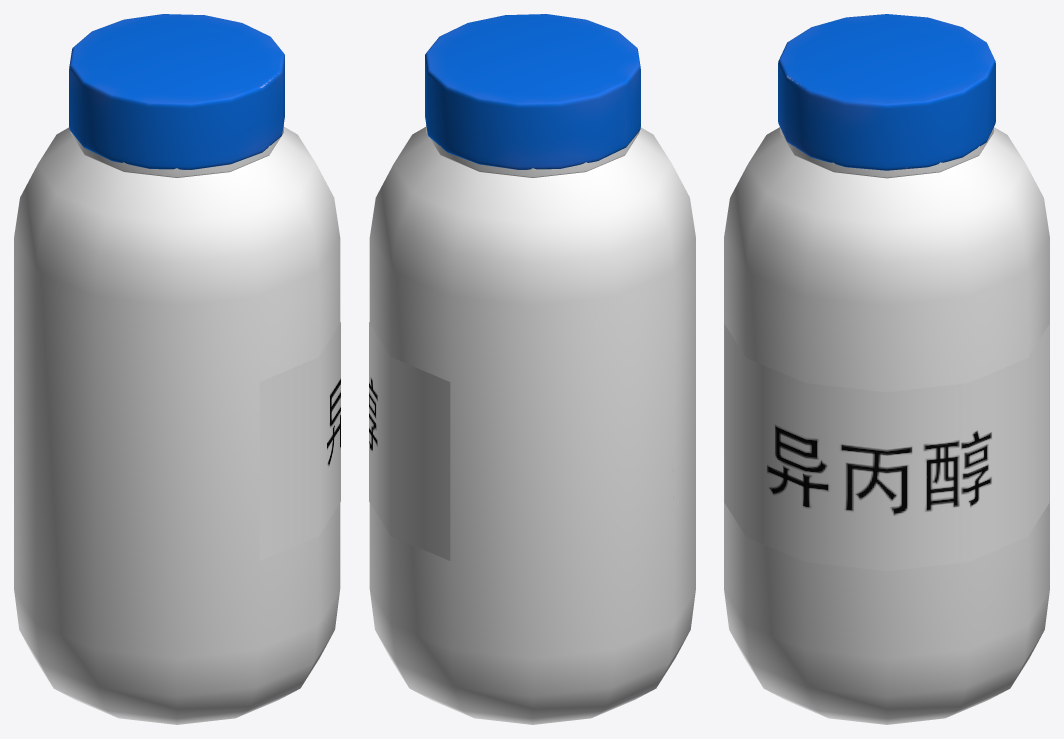
File: 异丙醇.glb
The picture shows the model from 3 angles, left to right: view 1: azimuth 30°, elevation 25°; view 2: azimuth 150°, elevation 25°; view 3: azimuth 270°, elevation 25°; orthographic projection.
Parts seen in each view (by area): view 1: 异丙醇, Cylinder017, 对象009; view 2: 异丙醇, Cylinder017, 对象009; view 3: 异丙醇, 对象009, Cylinder017.
Part boxes in pixels (x1,y1,x2,y2): 异丙醇: (14, 124, 340, 724); Cylinder017: (69, 14, 284, 169); 对象009: (259, 322, 340, 560); 异丙醇: (369, 124, 695, 724); Cylinder017: (425, 14, 640, 169); 对象009: (369, 322, 450, 560); 异丙醇: (724, 127, 1049, 724); 对象009: (724, 324, 1049, 571); Cylinder017: (778, 14, 995, 170).
Size of the model in its own units: 0.0701 by 0.1473 by 0.0699.
1 material, 1 textured.
